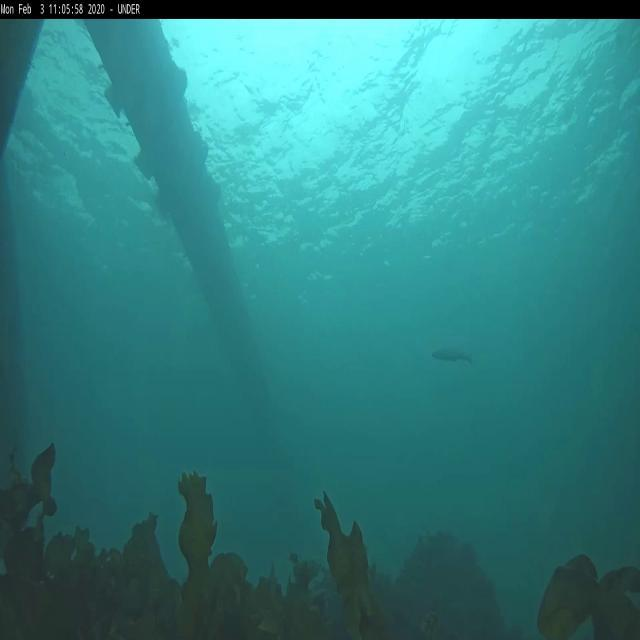fish: (430, 347, 476, 370)
